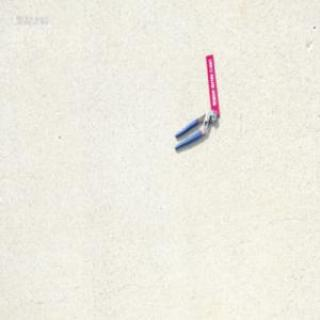LuggageTagtrack_idkeyframe: (205, 51, 219, 116)
Pliertrack_idkeyframe: (172, 108, 216, 150)
